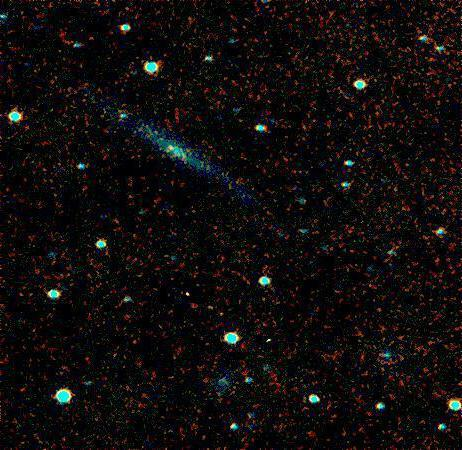star: (157, 132, 187, 162)
